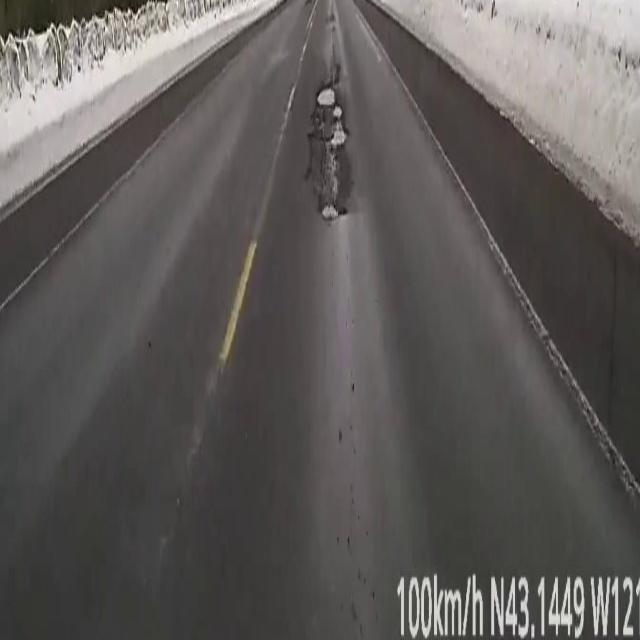pothole: (307, 65, 350, 222)
